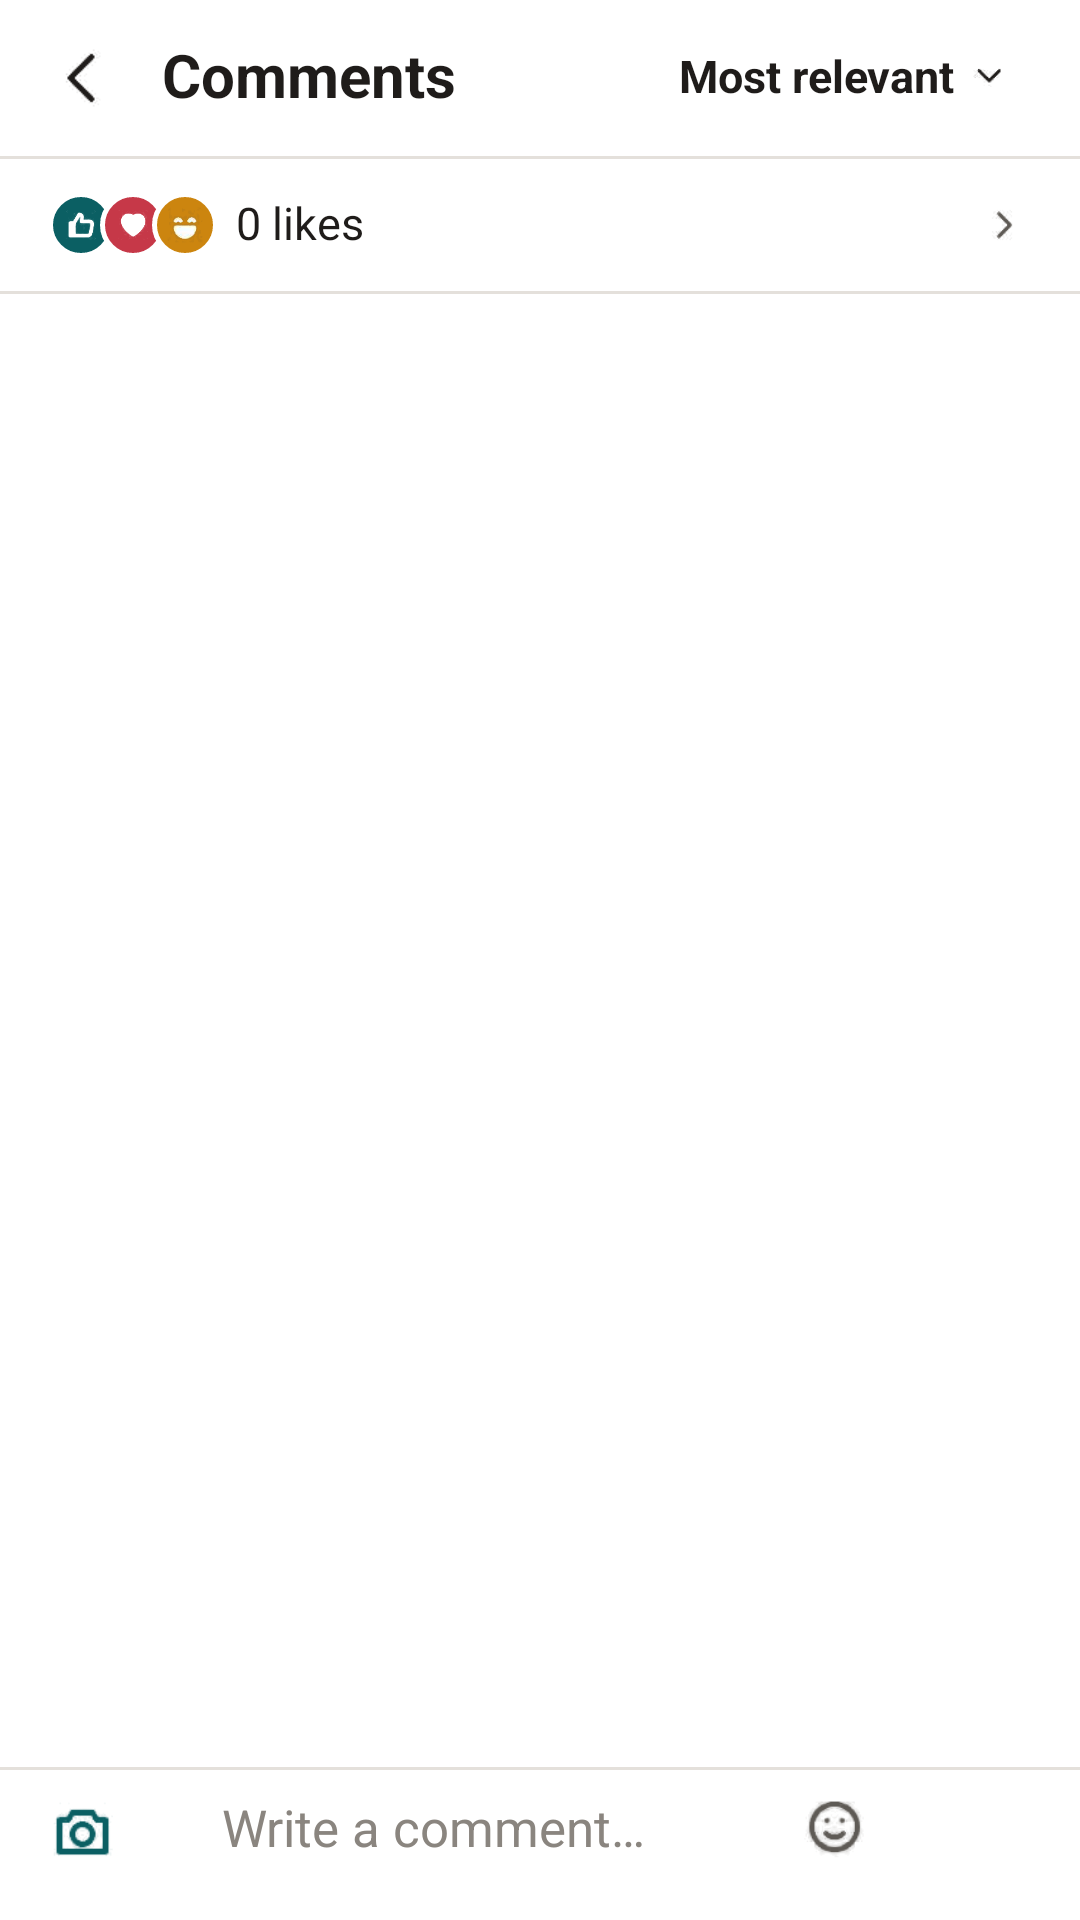

Screen size 1080px×1920px. Icon name, then its center in pixels as (x=x, y=y):
Add photo: (x=82, y=1832)
Back: (x=80, y=78)
chevron down: (x=988, y=76)
chevron right: (x=1004, y=225)
face haha: (x=185, y=225)
heart: (x=130, y=225)
smile: (x=834, y=1827)
thumb: (x=78, y=225)
